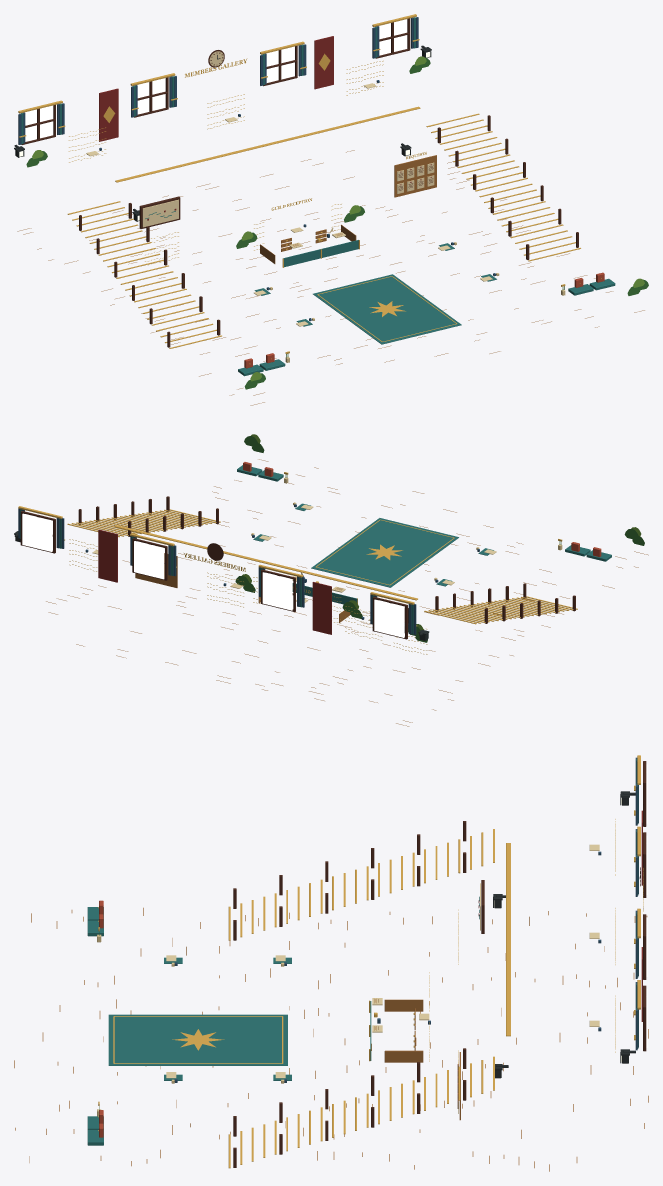
Rendered from SM_Guild_Details_Roomy.fbx.
3 views of the same model, one above another, from view 1: azimuth 30°, elevation 25°; view 2: azimuth 150°, elevation 25°; view 3: azimuth 270°, elevation 25° (orthographic). The views are drawn at different scales.
Parts seen in each view (by area): view 1: EntranceRug, GalleryRailGold, QuestCork, HangingBanner.002, HangingBanner.003, WarmWindow.001, WarmWindow.002, CounterInlay, GuildMapPaper, WarmWindow.003, WarmWindow; view 2: EntranceRug, WarmWindow, WarmWindow.001, WarmWindow.002, WarmWindow.003, HangingBanner.002, HangingBanner.003, GalleryRailGold; view 3: EntranceRug, GalleryRailGold.
Part boxes in pixels (<box>): EntranceRug: <box>313,274,461,344</box>; GalleryRailGold: <box>115,106,420,182</box>; QuestCork: <box>394,155,436,197</box>; HangingBanner.002: <box>99,88,118,141</box>; HangingBanner.003: <box>314,36,333,89</box>; WarmWindow.001: <box>137,78,165,114</box>; WarmWindow.002: <box>266,46,294,82</box>; CounterInlay: <box>283,240,358,267</box>; GuildMapPaper: <box>142,199,178,227</box>; WarmWindow.003: <box>379,19,406,55</box>; WarmWindow: <box>25,105,52,141</box>; EntranceRug: <box>311,518,458,587</box>; WarmWindow: <box>374,599,404,637</box>; WarmWindow.001: <box>262,572,292,610</box>; WarmWindow.002: <box>134,541,164,579</box>; WarmWindow.003: <box>22,513,52,551</box>; HangingBanner.002: <box>312,582,331,634</box>; HangingBanner.003: <box>98,529,117,582</box>; GalleryRailGold: <box>114,525,417,600</box>; EntranceRug: <box>108,1014,287,1065</box>; GalleryRailGold: <box>506,843,510,1036</box>.
Bounding box in the file's own units: 2518 × 2555 × 778.
